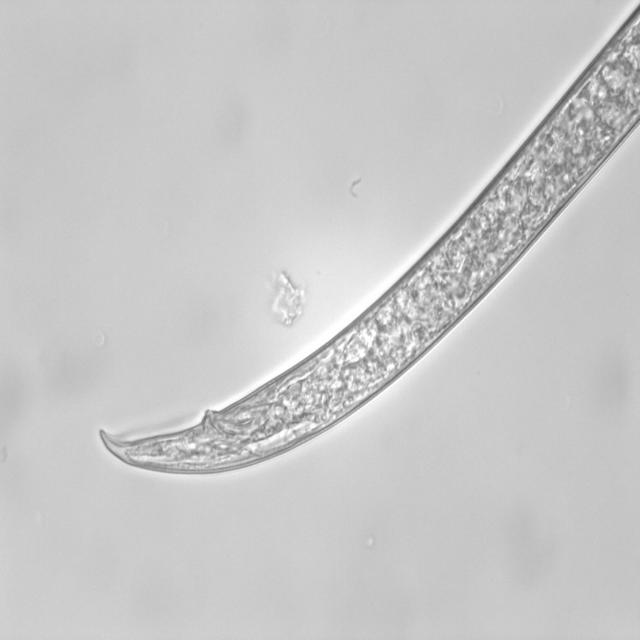Pratylenchus: (65, 0, 640, 485)
